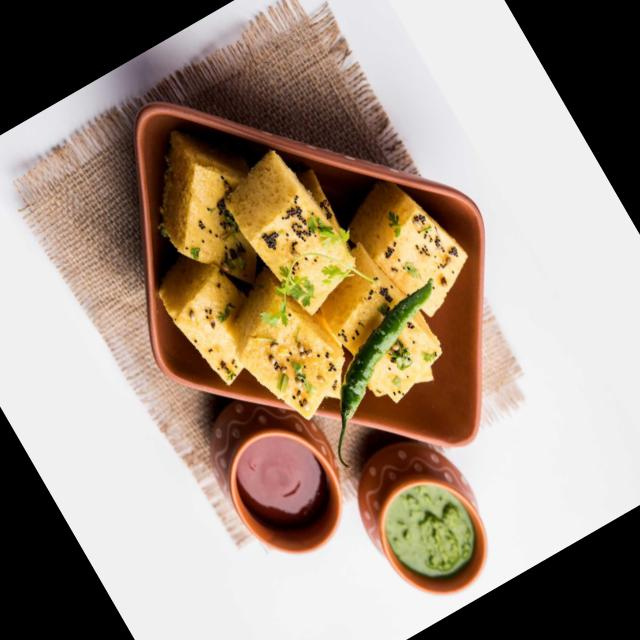dhokla: (104, 61, 507, 483)
